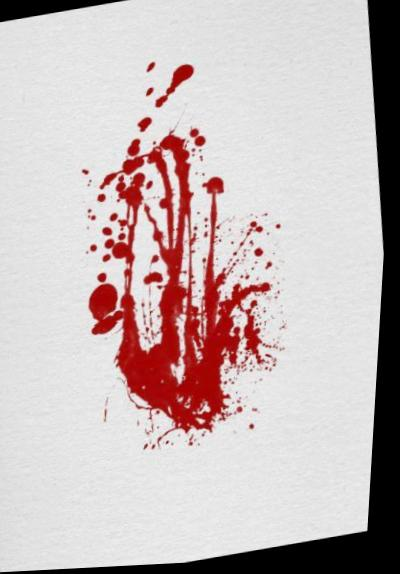Fire: (83, 57, 290, 451)
